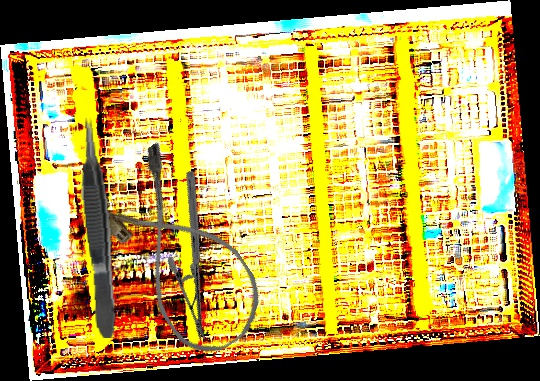Cannula: (80, 138, 279, 368)
Needle Holder: (117, 168, 275, 343)
Tissue Forceps: (75, 116, 120, 340)
